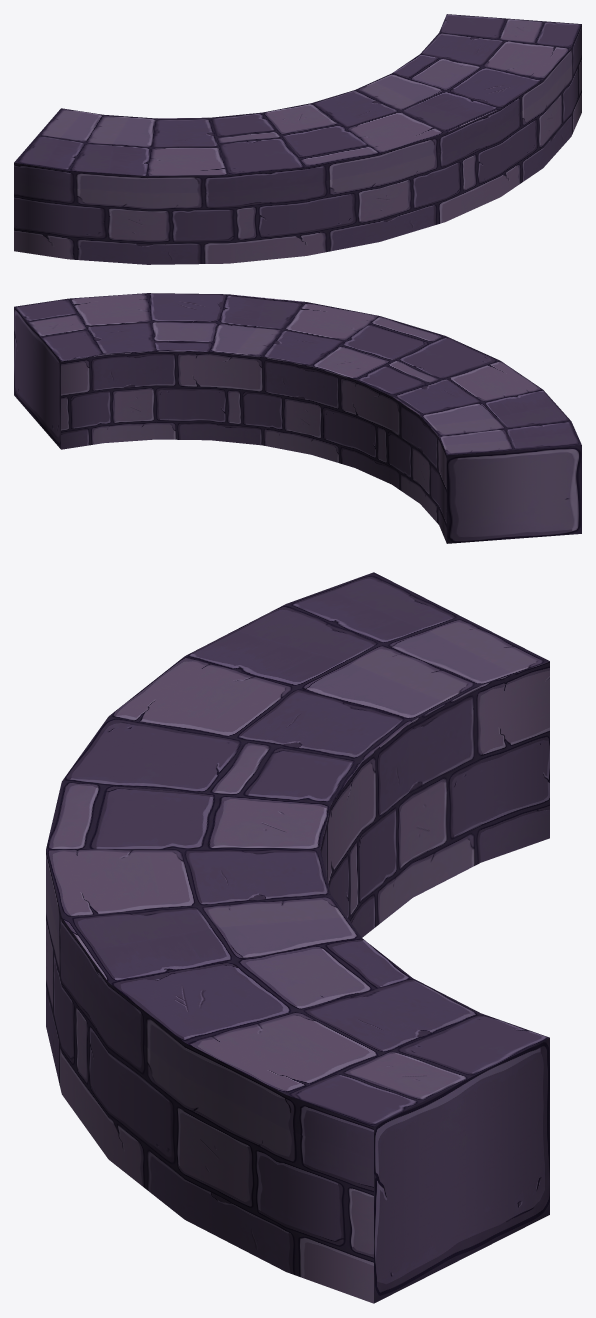
Rendered from Balcony.glb.
3 views of the same model, one above another, from view 1: azimuth 30°, elevation 25°; view 2: azimuth 150°, elevation 25°; view 3: azimuth 270°, elevation 25° (orthographic). The views are drawn at different scales.
Parts seen in each view (by area): view 1: Balcony; view 2: Balcony; view 3: Balcony.
Boxes of the visible parts, bbox=[...] form: Balcony: bbox=[14, 14, 581, 264]; Balcony: bbox=[14, 293, 581, 543]; Balcony: bbox=[46, 572, 549, 1303].
Size of what is drawn, in the model's own units: 78.1 by 11.64 by 30.01.
1 material, 1 textured.
